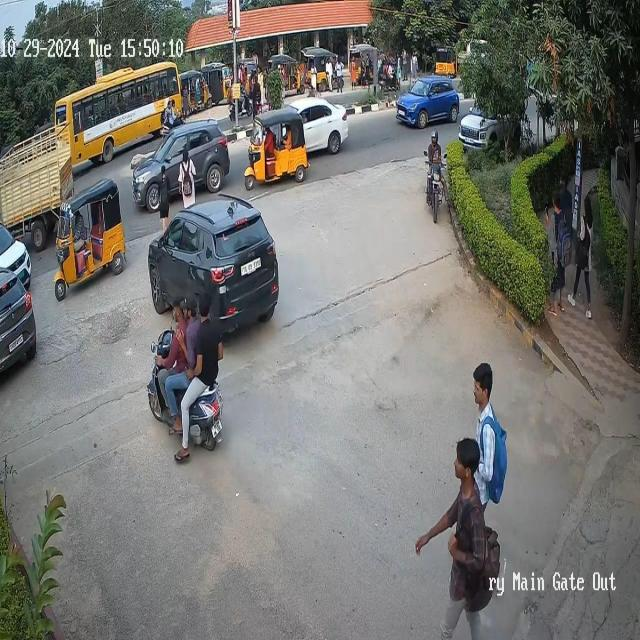triple_rider: (146, 287, 223, 452)
